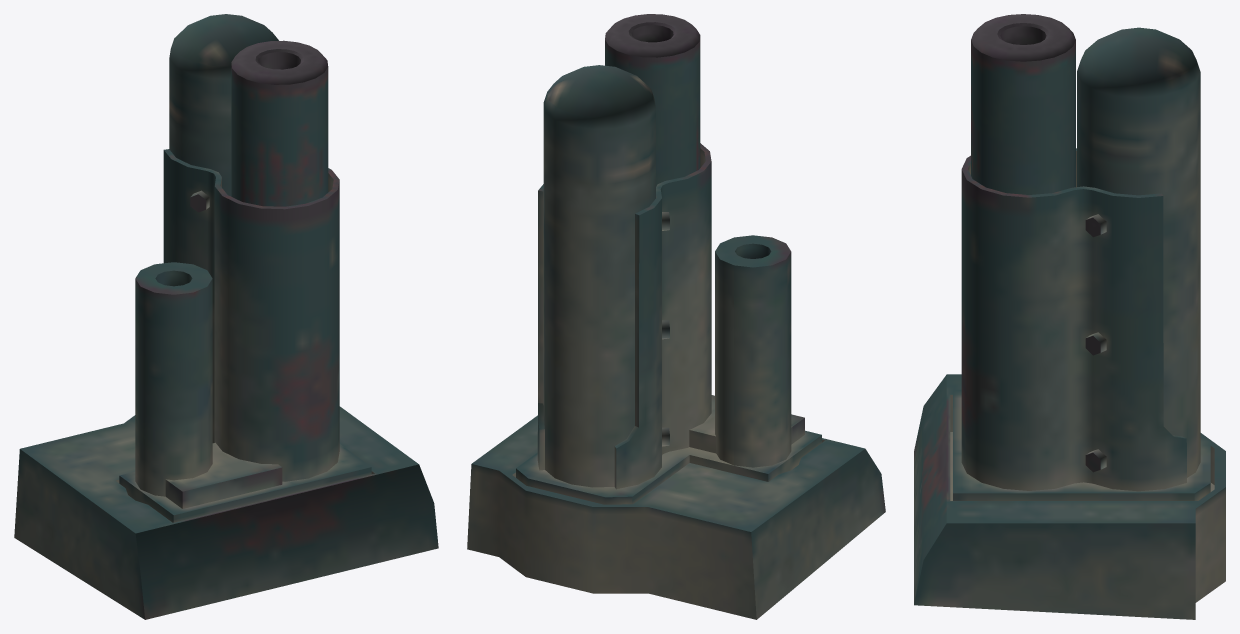
File: Gun_03.glb
The picture shows the model from 3 angles, left to right: view 1: azimuth 30°, elevation 25°; view 2: azimuth 150°, elevation 25°; view 3: azimuth 270°, elevation 25°; orthographic projection. The views are drawn at different scales.
Parts seen in each view (by area): view 1: set_0_group_0; view 2: set_0_group_0; view 3: set_0_group_0.
Boxes of the visible parts, x1=… form: set_0_group_0: x1=14, y1=14, x2=438, y2=619; set_0_group_0: x1=467, y1=14, x2=885, y2=619; set_0_group_0: x1=914, y1=14, x2=1225, y2=619.
Bounding box in the file's own units: 0.293 × 0.4692 × 0.2506.
Materials: 1 (1 with a texture image).
